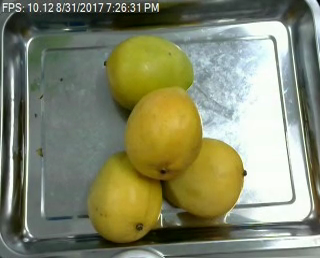Mango: (124, 86, 203, 179), (86, 151, 164, 240), (164, 138, 244, 218), (106, 35, 193, 106)
